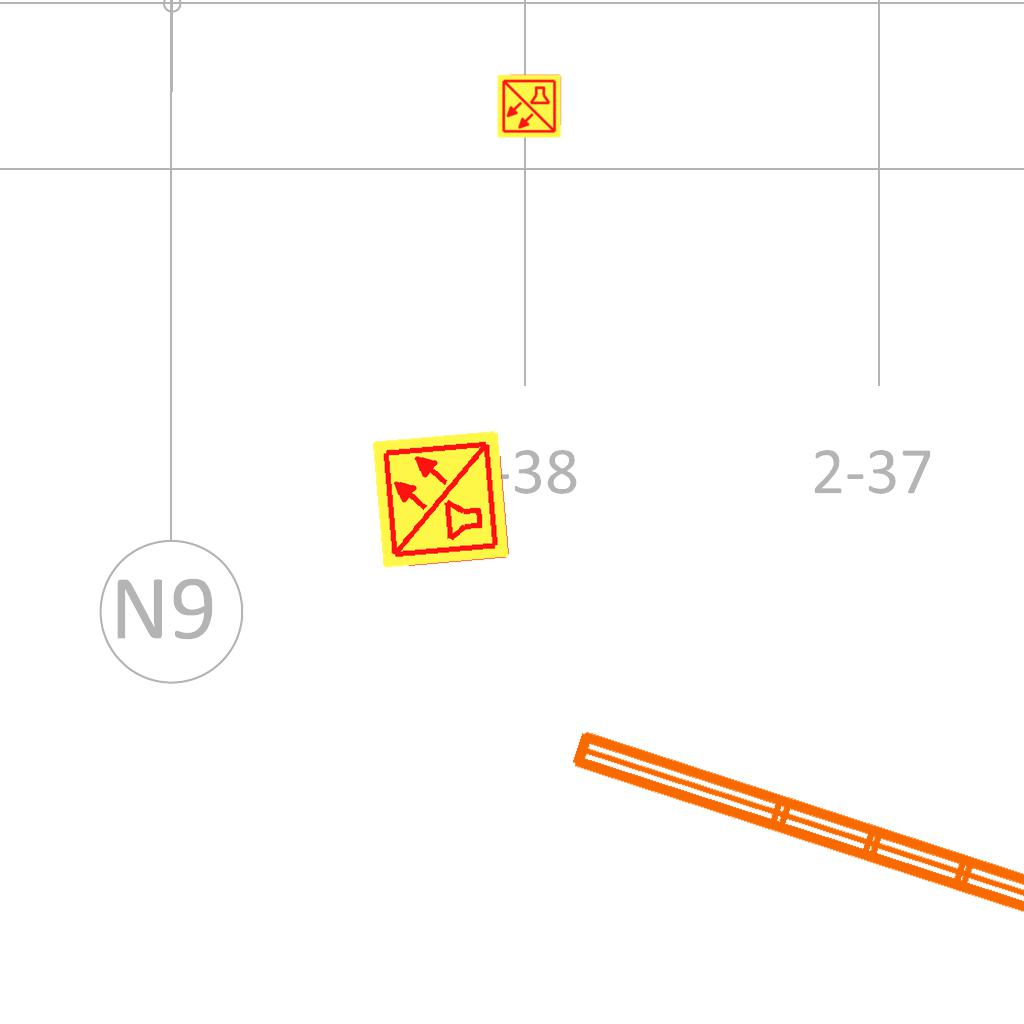Ambulanz_Pendelleuchte_LED: (557, 667, 1024, 1013)
OKW_Multisensormelder_(Kombination_optischer_Rauch-Kahlenmonoxid_Waerme-Melder): (369, 427, 513, 571), (496, 73, 562, 139)
